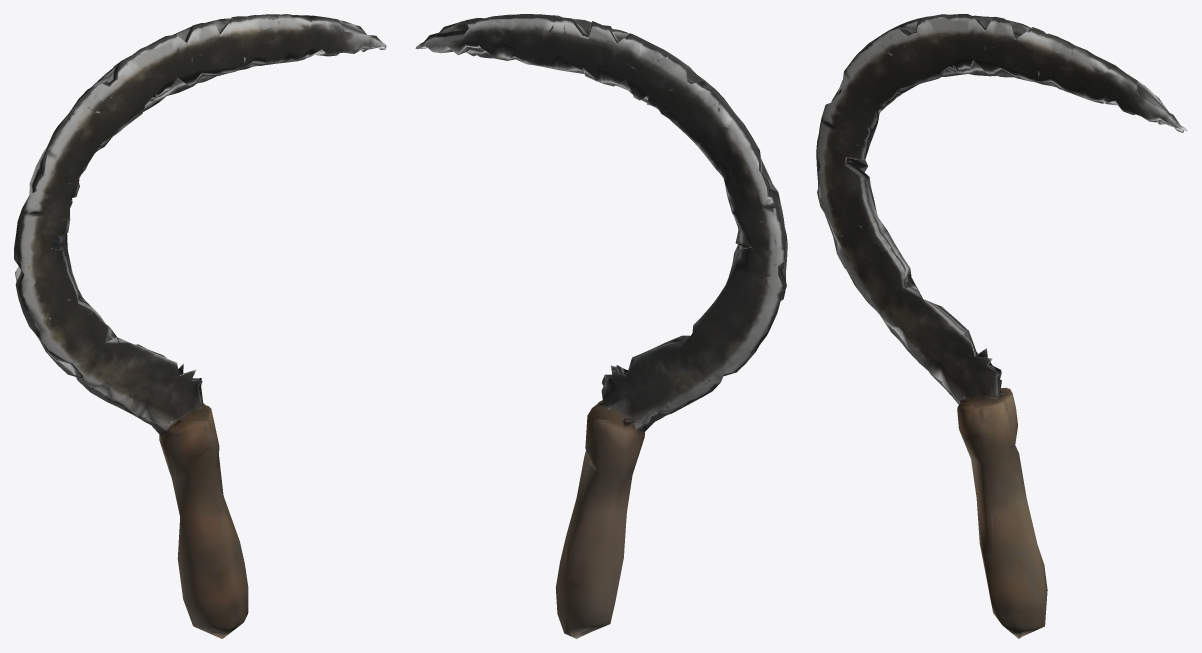
Rendered from 1722_sickle.glb.
3 renders of one model, left to right at view 1: azimuth 30°, elevation 25°; view 2: azimuth 150°, elevation 25°; view 3: azimuth 330°, elevation 25°, orthographic.
Parts seen in each view (by area): view 1: Model; view 2: Model; view 3: Model.
Boxes of the visible parts, box(x1,y1,x2,y2) form: Model: box(14, 14, 386, 638); Model: box(415, 14, 787, 638); Model: box(816, 14, 1187, 638).
Size of the model in its own units: 0.6298 by 1 by 0.0987.
Materials: 1 (1 with a texture image).
